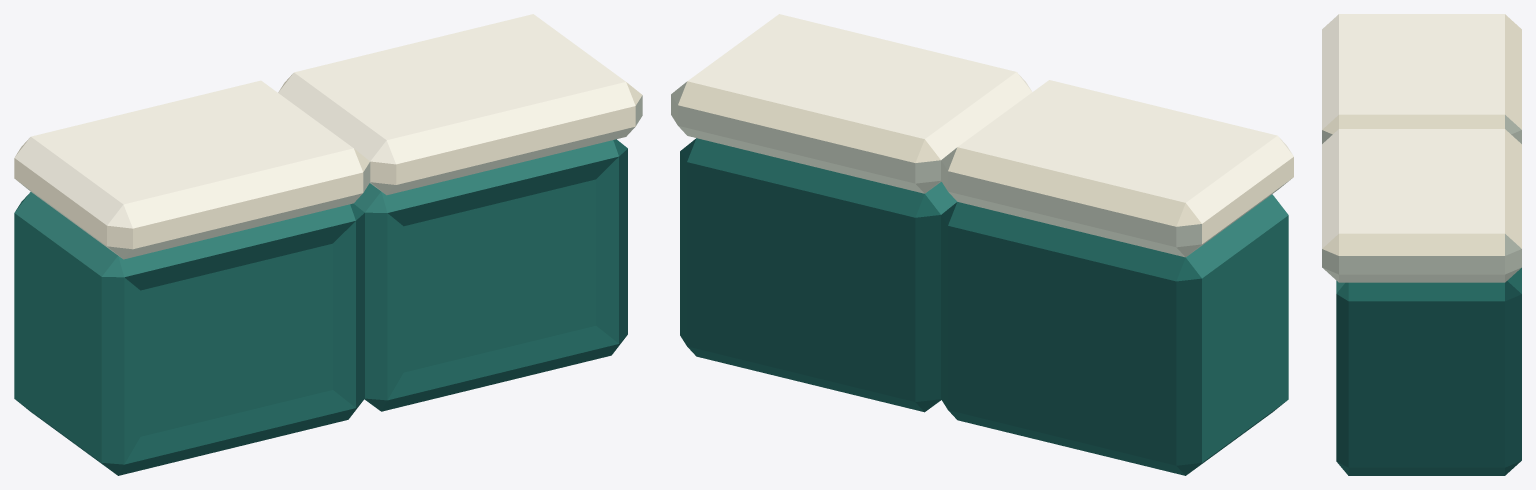
The model's file is Terrain_TopRun2R.gltf.
3 renders of one model, left to right at view 1: azimuth 30°, elevation 25°; view 2: azimuth 150°, elevation 25°; view 3: azimuth 270°, elevation 25°, orthographic. The views are drawn at different scales.
Visible parts, largest first — view 1: Terrain_TopRun2R_baked; view 2: Terrain_TopRun2R_baked; view 3: Terrain_TopRun2R_baked.
Part boxes in pixels (x1=…): Terrain_TopRun2R_baked: x1=14, y1=14, x2=642, y2=475; Terrain_TopRun2R_baked: x1=671, y1=14, x2=1293, y2=475; Terrain_TopRun2R_baked: x1=1322, y1=14, x2=1521, y2=475.
Size of the model in its own units: 2.03 by 1 by 0.735.
